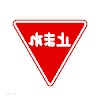Regulatory_sign_triangle: (11, 16, 88, 89)
